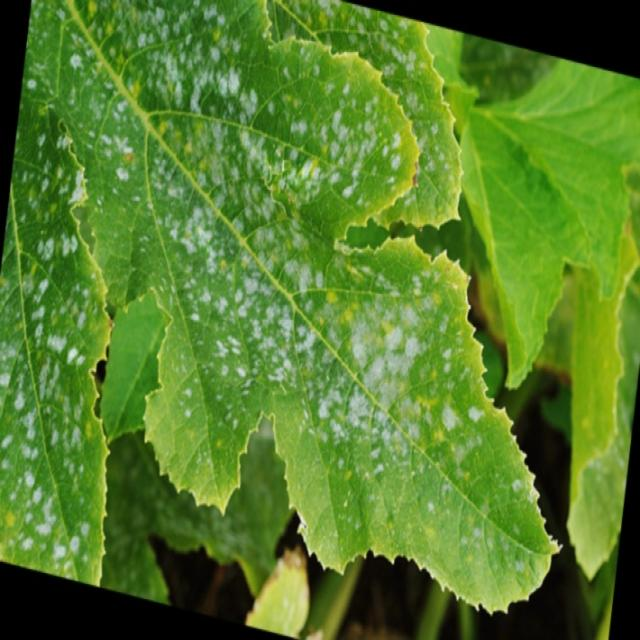Powdery Mildew: (20, 15, 466, 586)
